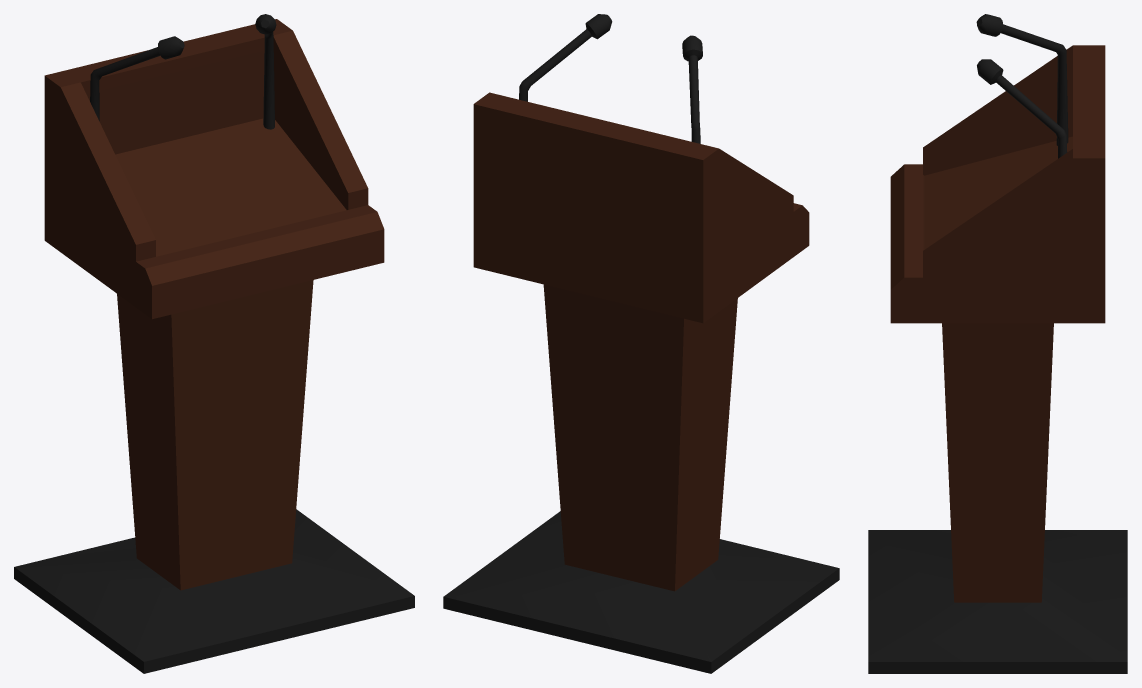
File: podium.fbx
3 views of the same model, side by side, from view 1: azimuth 30°, elevation 25°; view 2: azimuth 150°, elevation 25°; view 3: azimuth 270°, elevation 25° (orthographic).
Parts seen in each view (by area): view 1: Box001; view 2: Box001; view 3: Box001.
Part boxes in pixels (x1,y1,x2,y2): Box001: (14,14,414,673); Box001: (443,14,839,673); Box001: (868,14,1127,673).
Bounding box in the file's own units: 41.33 × 83.29 × 34.29.
